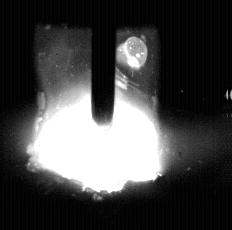arame: (93, 0, 115, 126)
poca: (28, 0, 162, 230)
